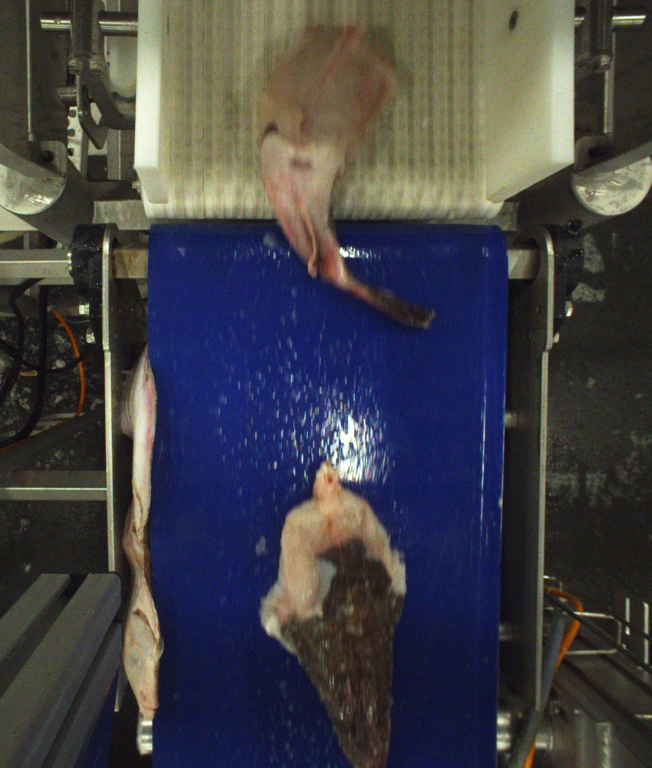ANF: (255, 24, 443, 344)
